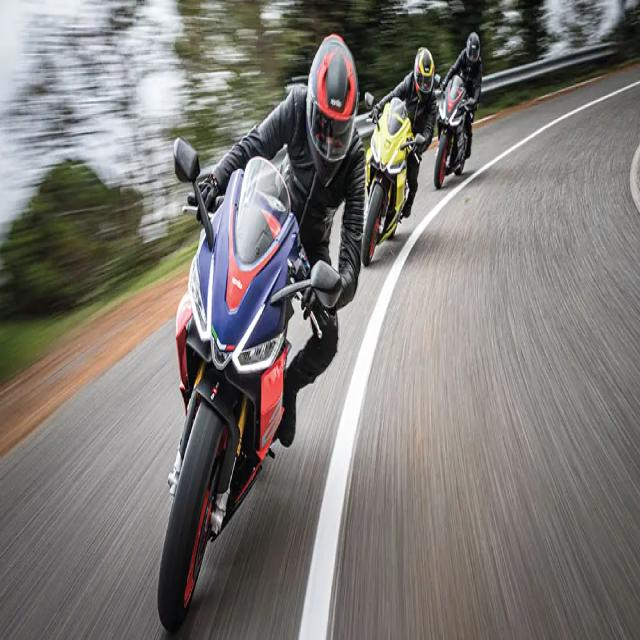MOTORCYCLE: (166, 157, 304, 640), (365, 101, 408, 258), (433, 78, 473, 177)
